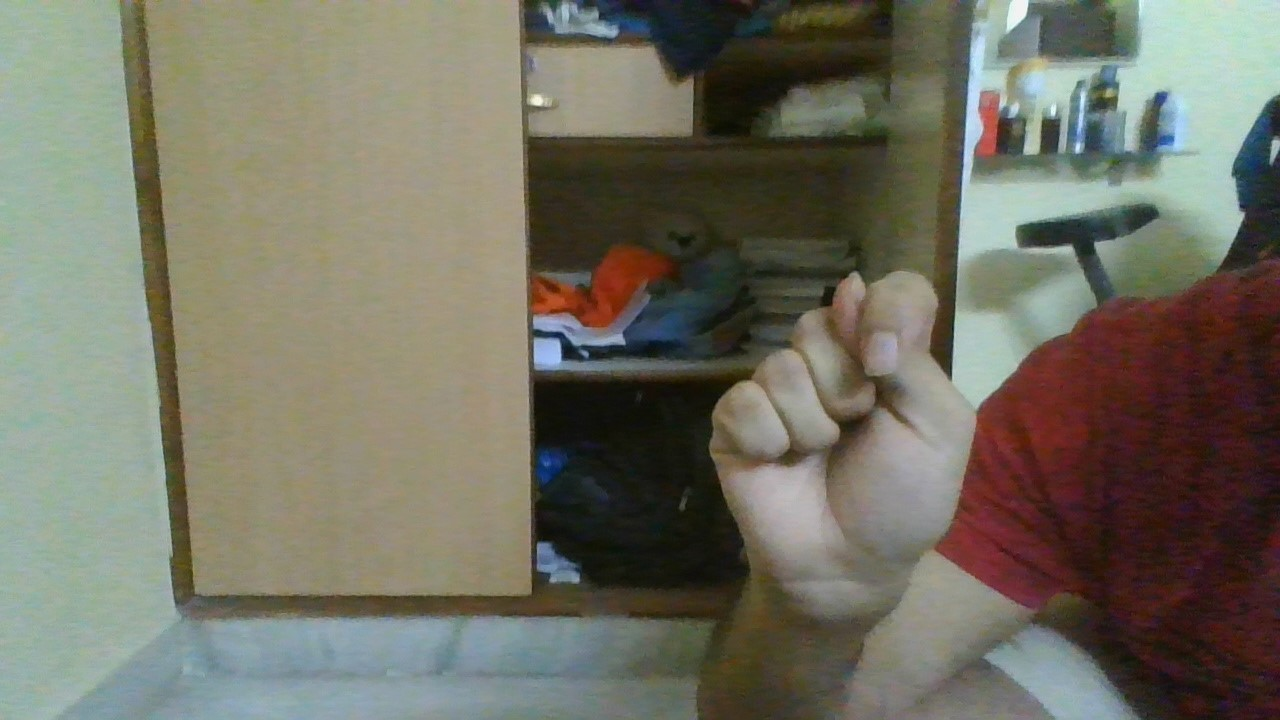t: (705, 264, 982, 612)
